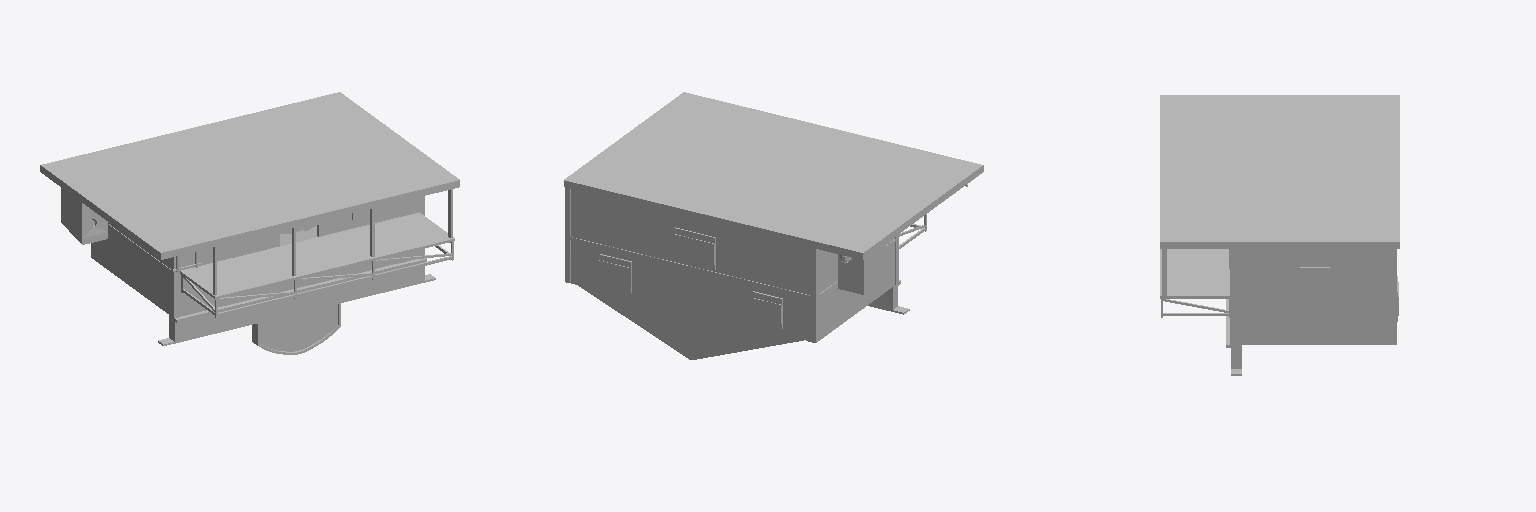
File: saloon2.obj
3 views of the same model, side by side, from view 1: azimuth 30°, elevation 25°; view 2: azimuth 150°, elevation 25°; view 3: azimuth 270°, elevation 25° (orthographic).
Visible parts, largest first — view 1: Cylinder002; view 2: Cylinder002; view 3: Cylinder002.
Boxes of the visible parts, x1,y1,x2,y2 form: Cylinder002: [40, 92, 459, 354]; Cylinder002: [564, 92, 983, 359]; Cylinder002: [1160, 95, 1399, 375].
Size of the model in its own units: 145 by 75.86 by 97.69.